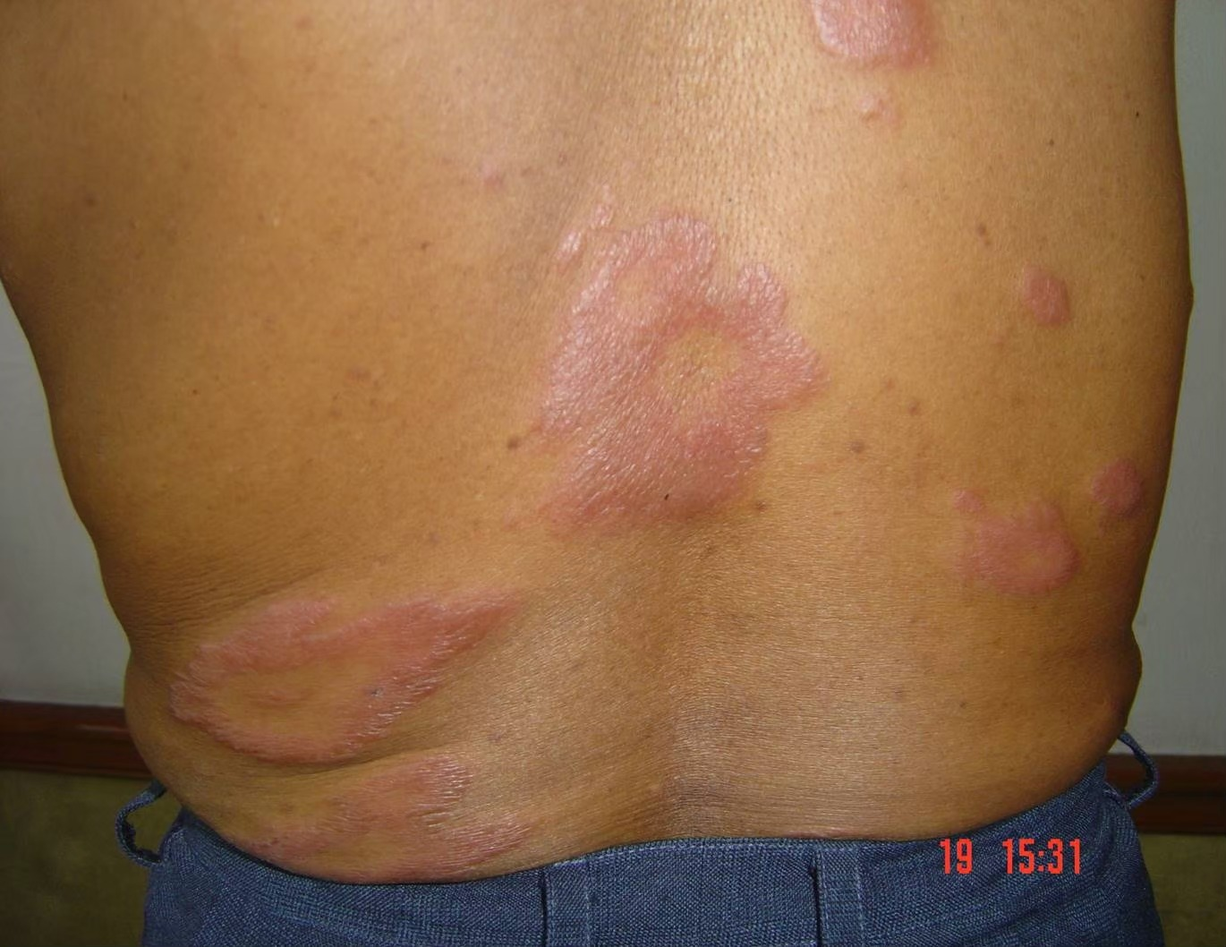Leprosy: (511, 210, 847, 546), (164, 588, 522, 783), (261, 773, 533, 874), (946, 487, 1094, 608), (811, 2, 953, 83), (1026, 266, 1089, 342)
